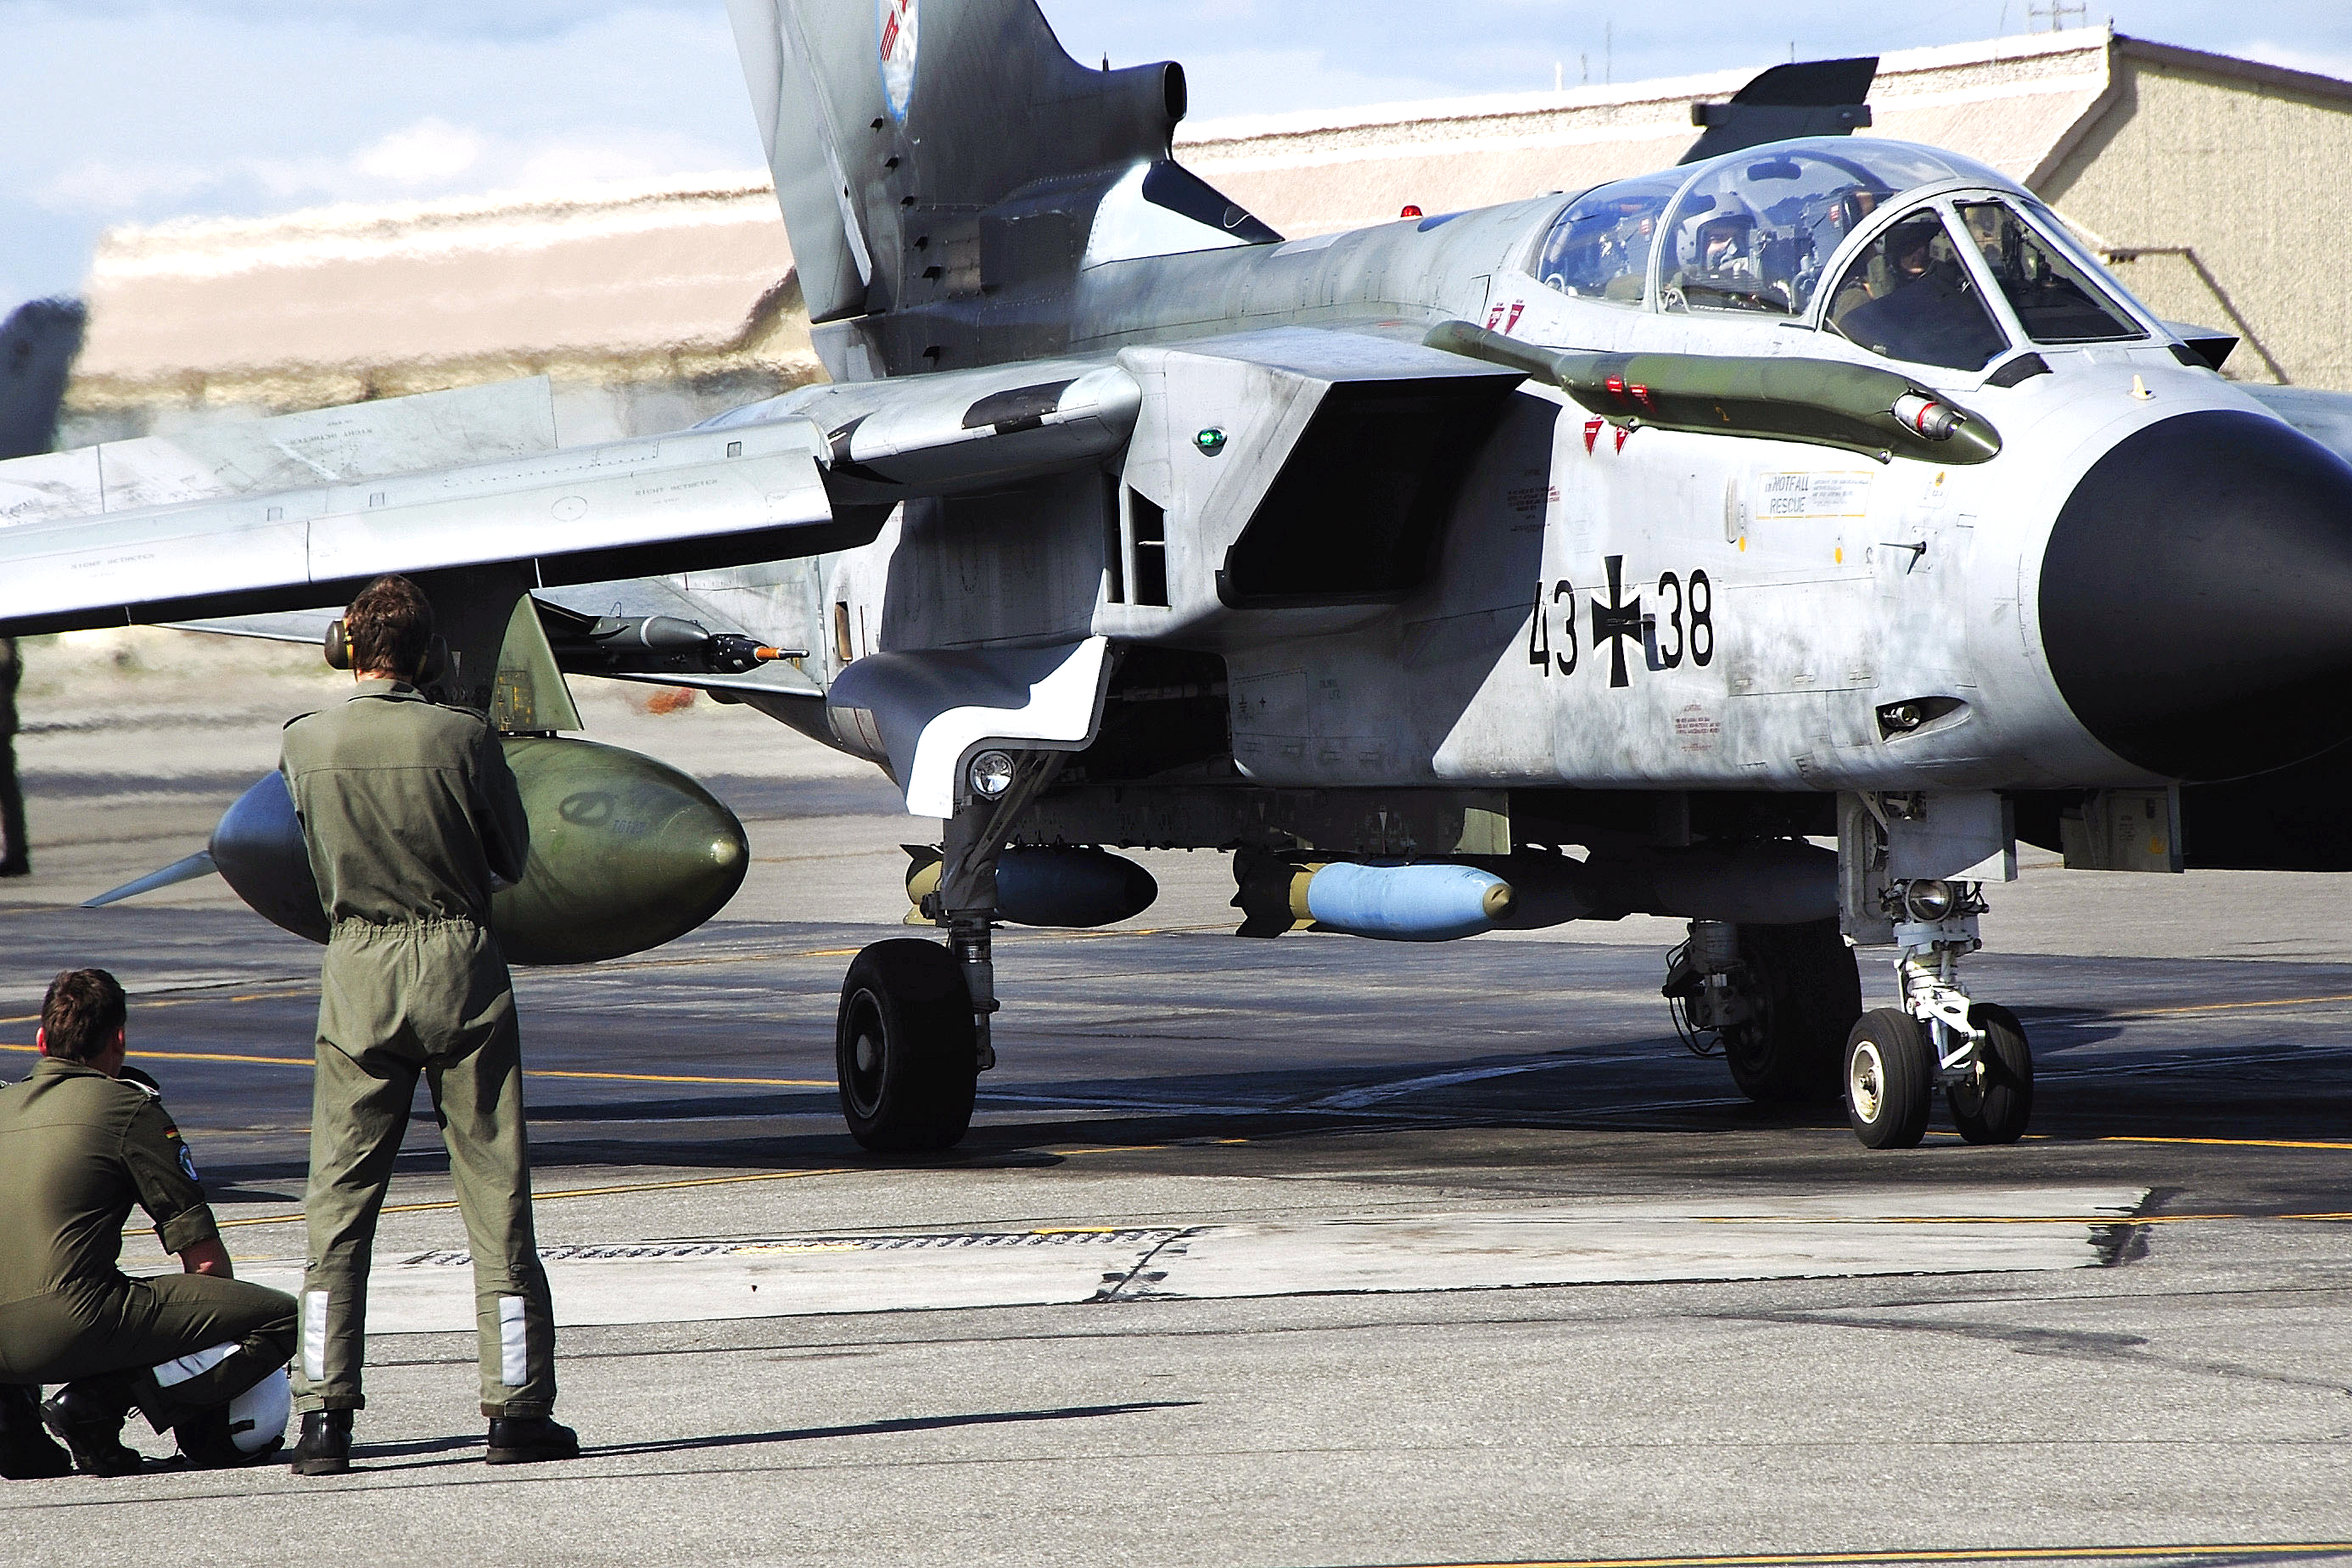Tornado: (0, 0, 2352, 1150)
